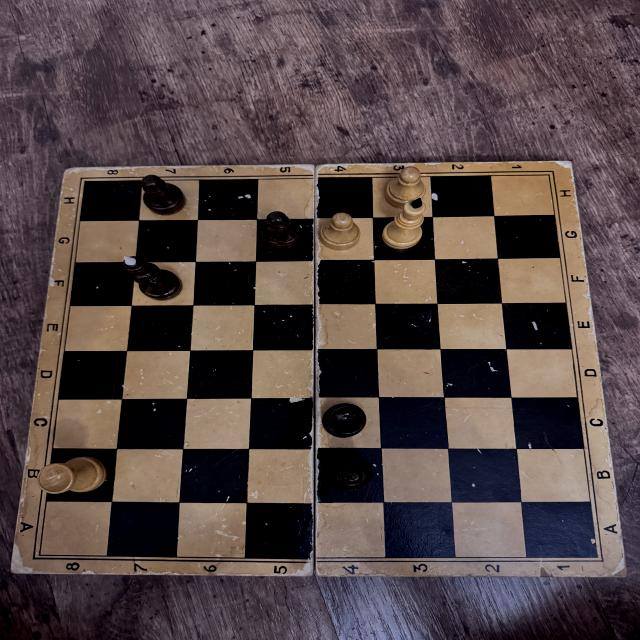black-king: (120, 254, 184, 301)
black-pawn: (139, 174, 187, 216), (324, 454, 376, 491), (258, 210, 306, 250)
black-rook: (320, 401, 370, 440)
white-king: (380, 198, 425, 250)
white-pawn: (386, 168, 431, 205), (319, 212, 361, 250)
white-rook: (34, 457, 104, 495)
